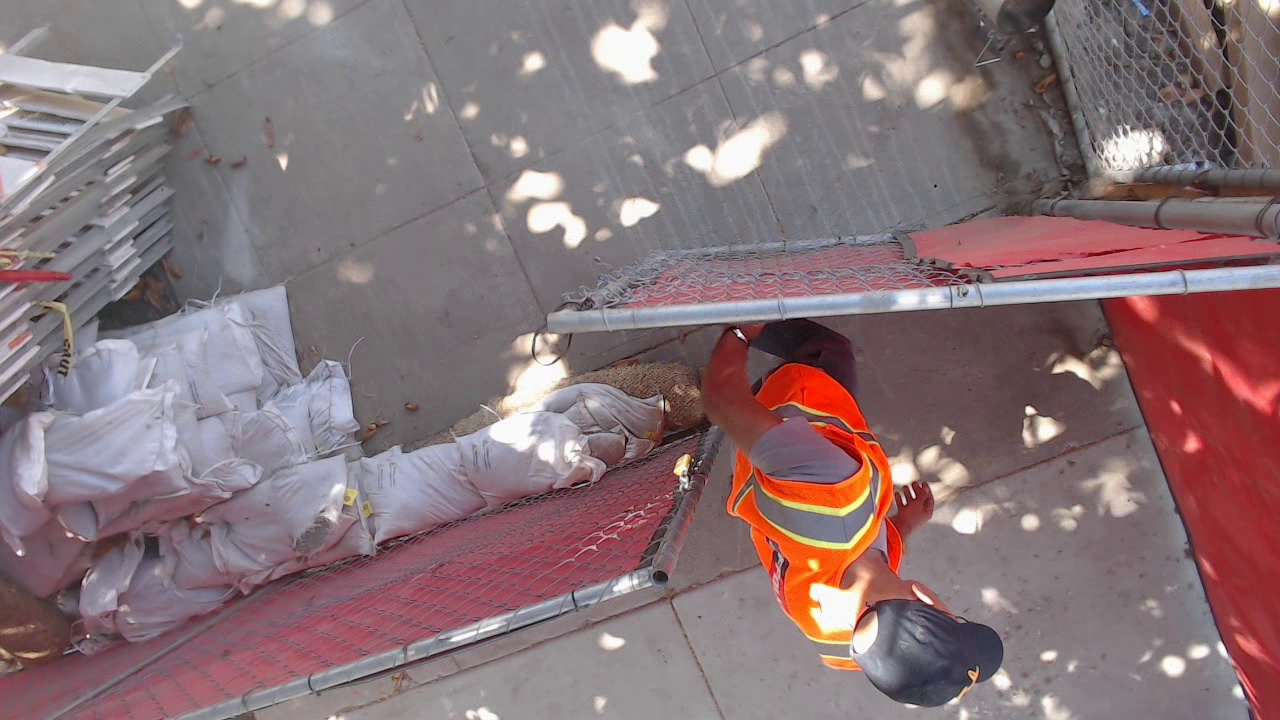hardhat: (886, 322, 1021, 473)
person: (730, 282, 1018, 472)
red: (937, 340, 990, 367)
safetyvest: (749, 302, 906, 452)
